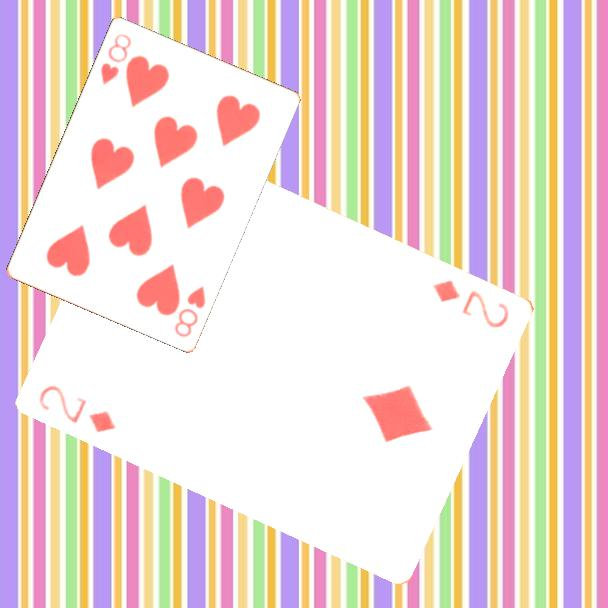d02: (429, 276, 513, 331), (36, 381, 119, 436)
h08: (170, 282, 208, 340), (97, 30, 134, 87)
